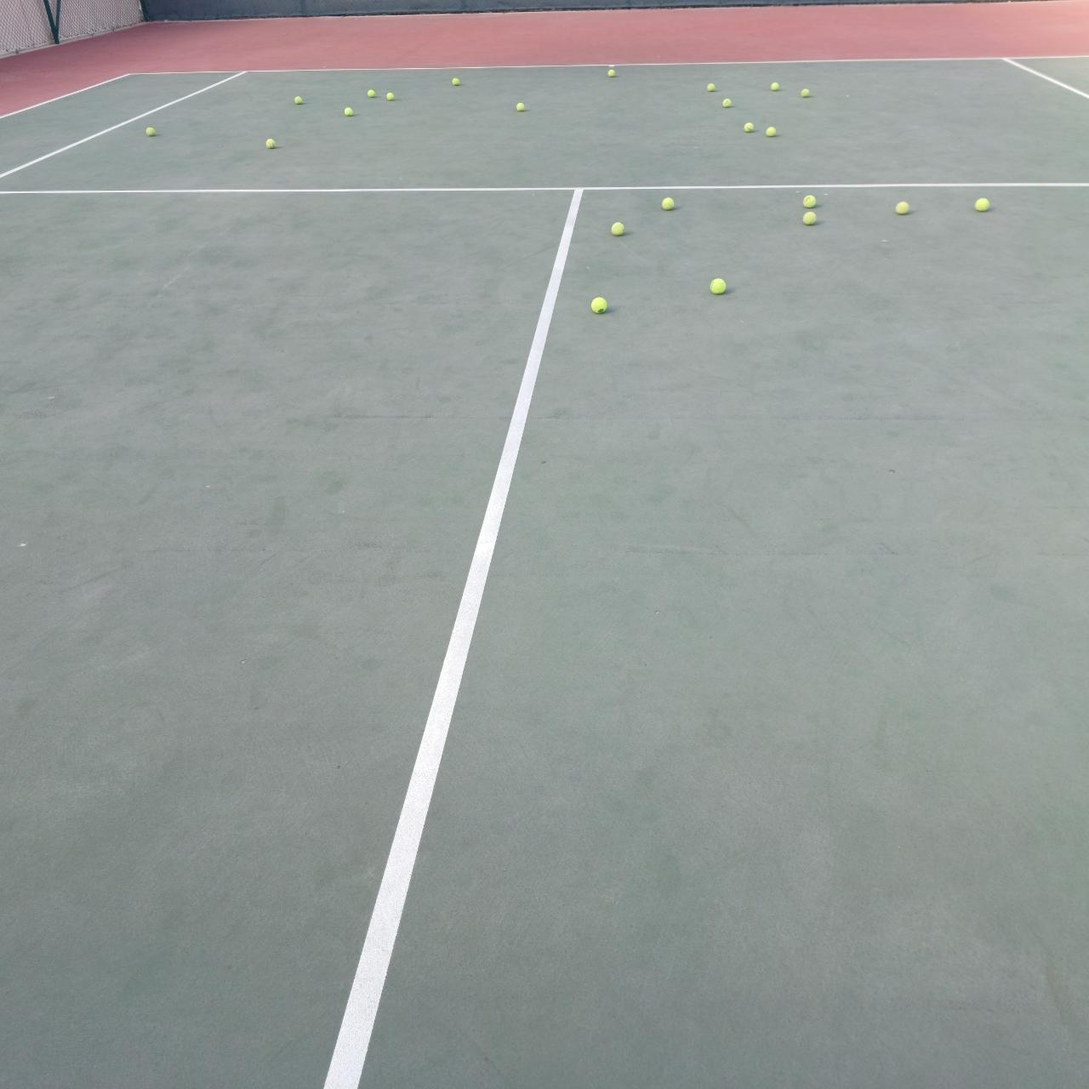tennis-ball: (590, 294, 609, 314), (710, 276, 727, 294), (975, 195, 992, 212), (896, 199, 911, 214), (802, 211, 818, 225), (612, 221, 625, 235), (803, 195, 817, 208), (662, 197, 675, 209), (766, 126, 776, 137), (744, 122, 754, 132), (266, 138, 275, 149), (146, 127, 155, 137), (801, 88, 810, 97), (707, 83, 716, 92), (386, 92, 395, 101), (770, 83, 780, 91), (723, 99, 731, 108), (516, 103, 524, 112), (367, 89, 375, 98), (345, 107, 353, 116), (294, 96, 302, 105), (608, 69, 616, 77), (452, 78, 460, 86)
